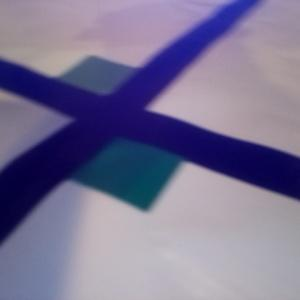bottom_right: (65, 122, 183, 210)
top_left: (56, 56, 142, 110)
